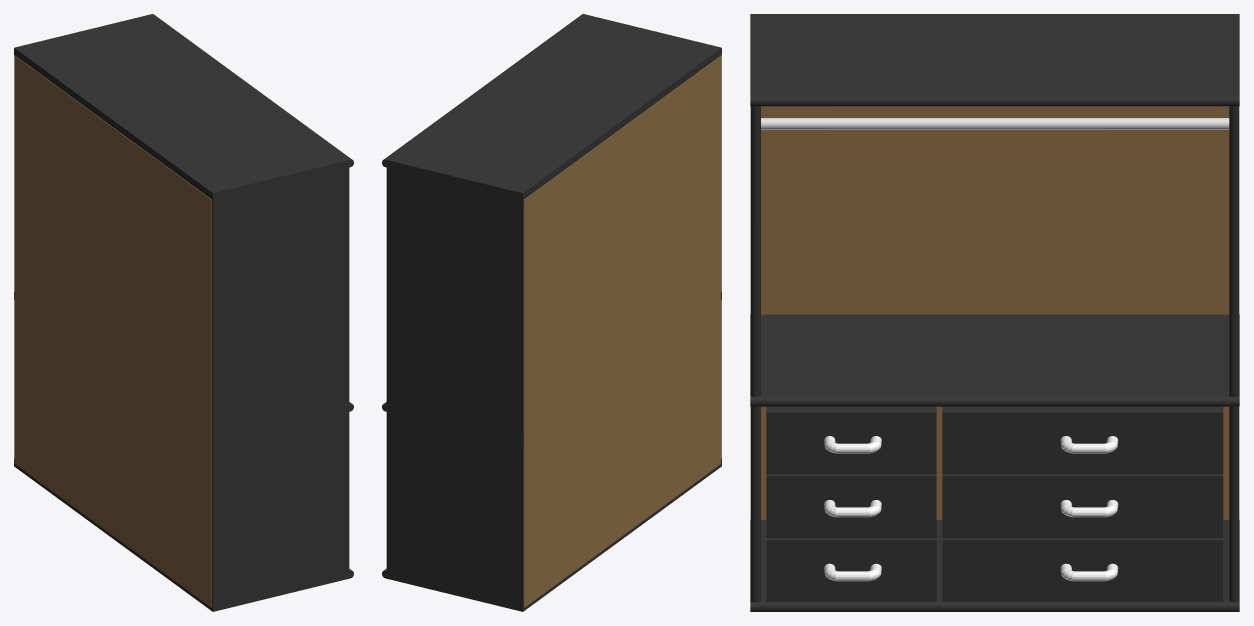
File: schrankgroß.fbx
3 renders of one model, left to right at view 1: azimuth 30°, elevation 25°; view 2: azimuth 150°, elevation 25°; view 3: azimuth 270°, elevation 25°, orthographic. The views are drawn at different scales.
Parts seen in each view (by area): view 1: closet; view 2: closet; view 3: closet, closetR1, closetR2, closetR3, closetL1, closetL2, closetL3.
Part boxes in pixels (left/top/right/bottom): closet: left=14, top=14, right=353, bottom=611; closet: left=382, top=14, right=721, bottom=611; closet: left=750, top=14, right=1239, bottom=611; closetR1: left=942, top=406, right=1223, bottom=473; closetR2: left=942, top=474, right=1223, bottom=537; closetR3: left=942, top=538, right=1223, bottom=601; closetL1: left=766, top=406, right=936, bottom=473; closetL2: left=766, top=474, right=936, bottom=537; closetL3: left=766, top=538, right=936, bottom=601.
Bounding box in the file's own units: 2.64 × 6.8 × 5.86.
